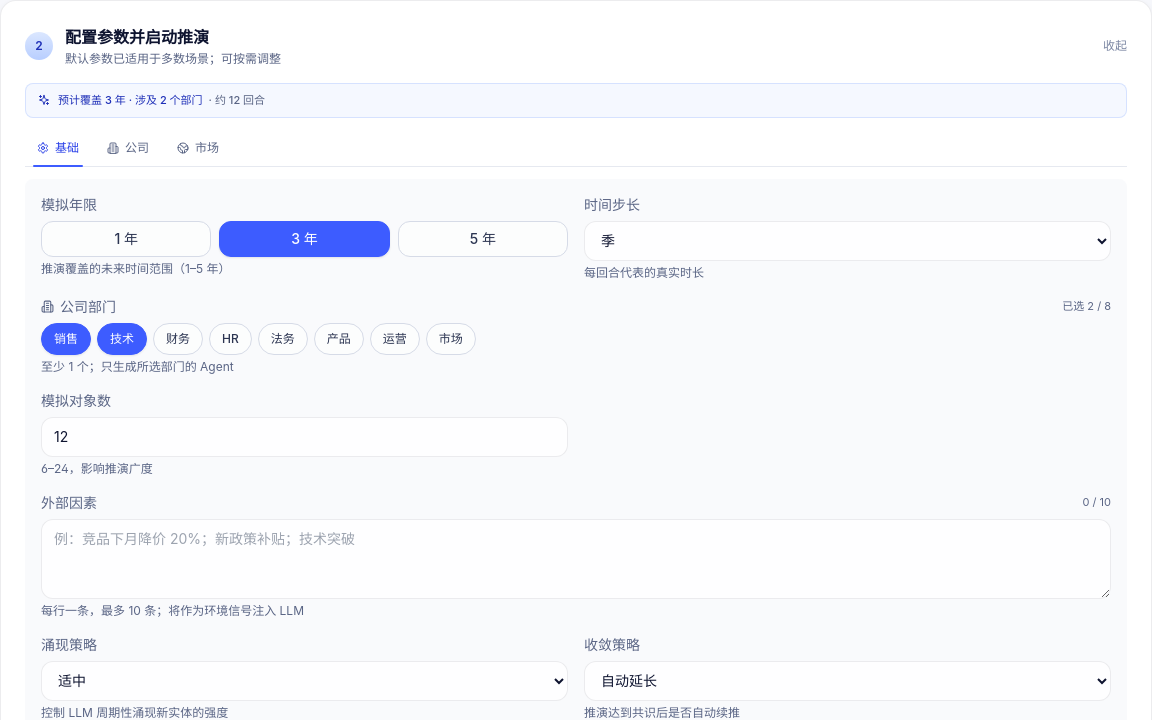
it: ConfigCard 3 tabs › 点 公司 tab → 切换到公司视图
The width and height of the screenshot is (1152, 720).
What coordinates should you click on to do the following:
click the button "公司"
I would click on:
 (128, 148)
Its box is x1=95 y1=130 x2=161 y2=166.
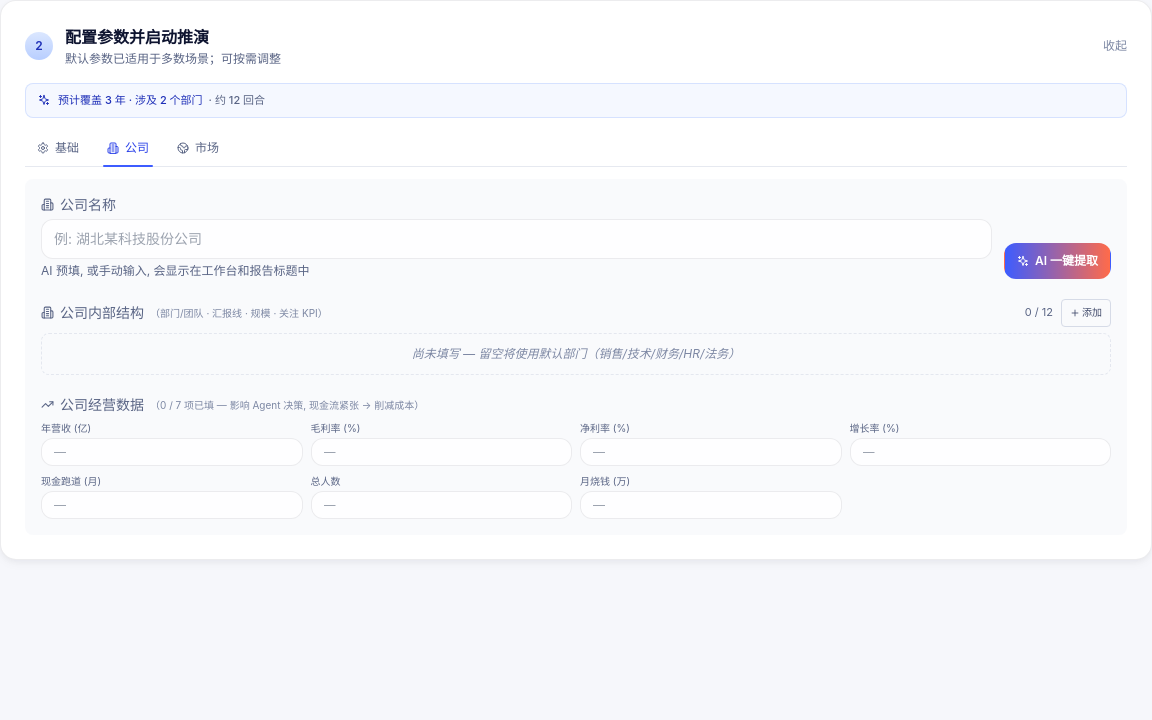
Result: the text "公司名称" is shown at x1=41 y1=196 x2=116 y2=212
